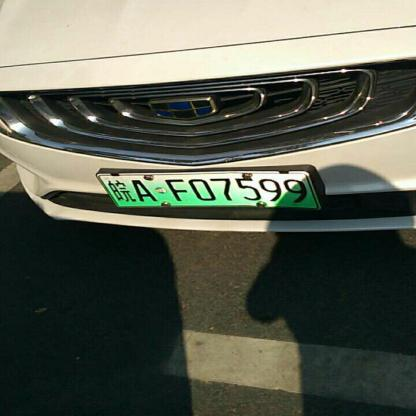lp: (98, 172, 322, 209)
